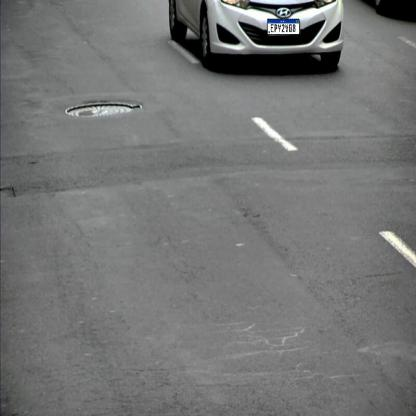PlacaM: (268, 18, 300, 34)
